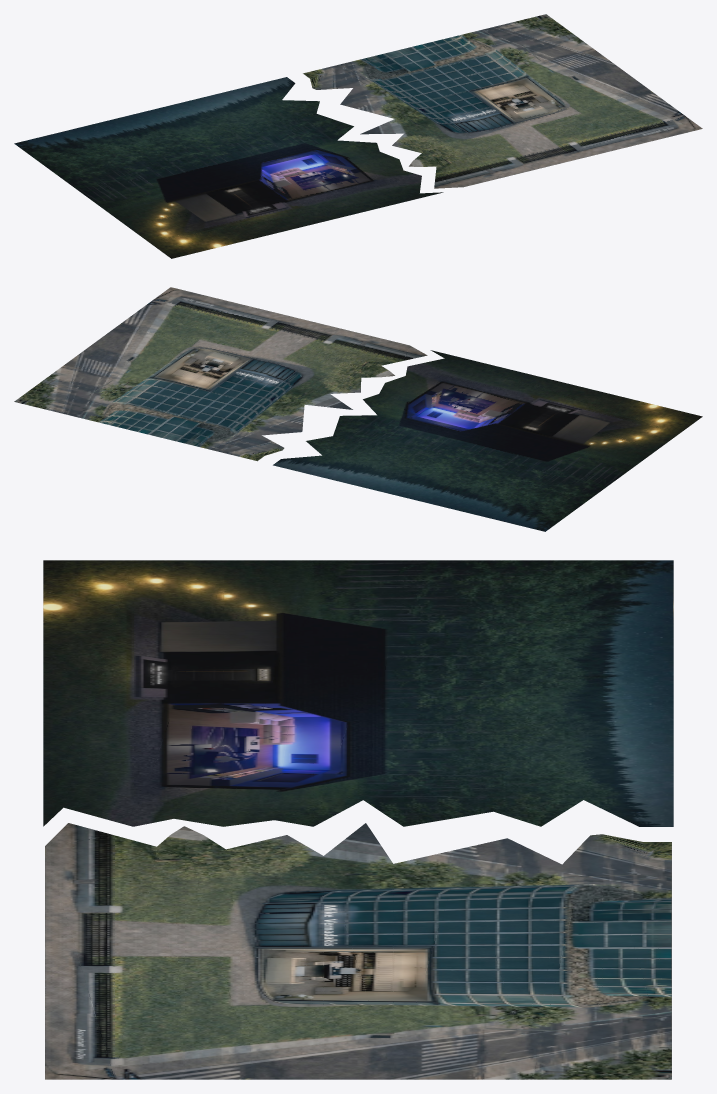
File: dayandnight.glb
3 views of the same model, one above another, from view 1: azimuth 30°, elevation 25°; view 2: azimuth 150°, elevation 25°; view 3: azimuth 270°, elevation 25° (orthographic). The views are drawn at different scales.
Parts seen in each view (by area): view 1: Night, Day; view 2: Night, Day; view 3: Night, Day.
Part boxes in pixels (bbox=[...]): Night: bbox=[14, 77, 443, 258]; Day: bbox=[303, 14, 702, 188]; Night: bbox=[273, 350, 702, 531]; Day: bbox=[14, 287, 427, 461]; Night: bbox=[43, 560, 673, 826]; Day: bbox=[45, 823, 671, 1079].
Bounding box in the file's own units: 15.46 × 0 × 7.93.
2 materials, 2 textured.
